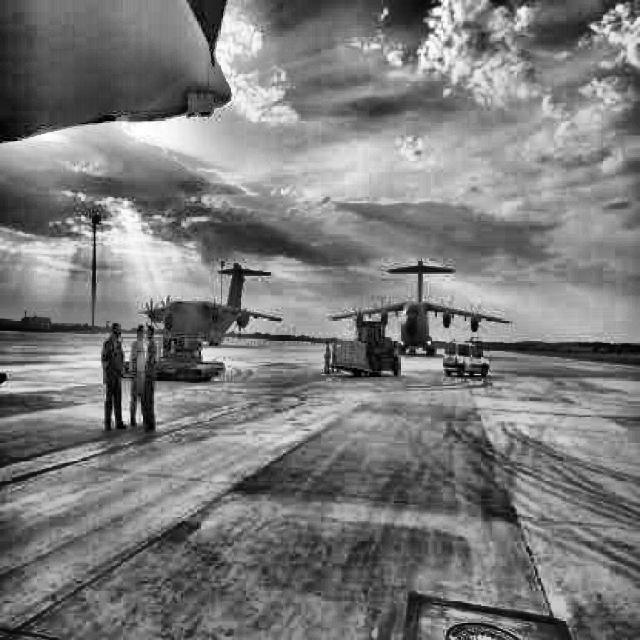A400M: (329, 258, 514, 357), (140, 262, 282, 347)
